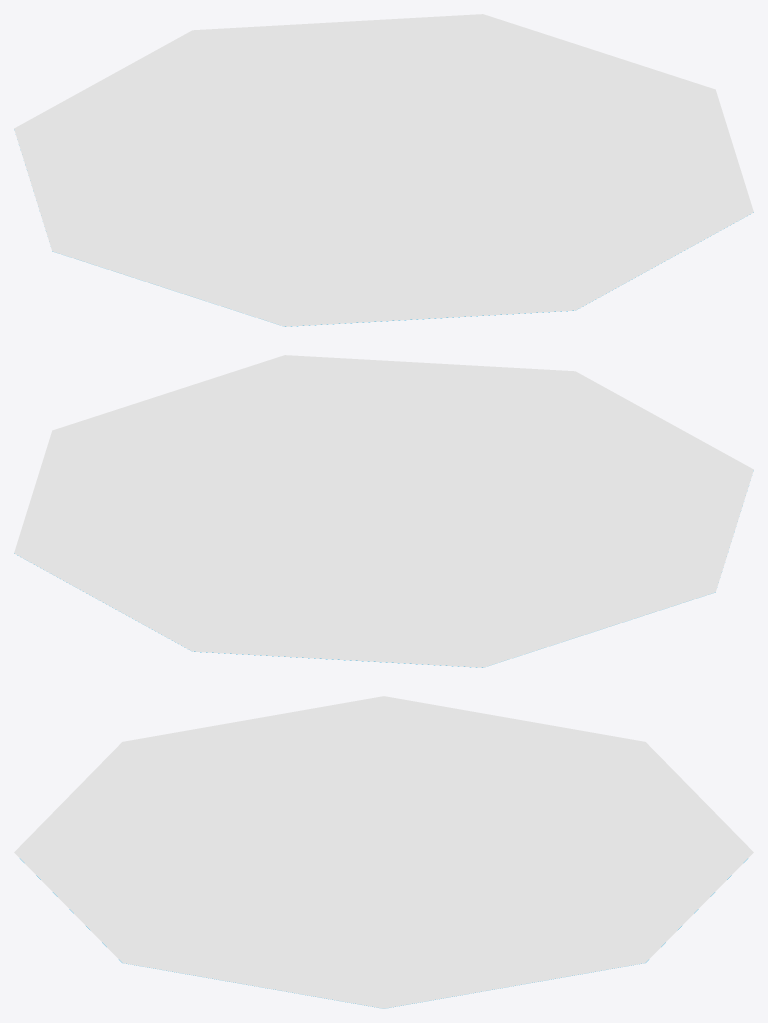
Rendered from nokonoko_course-beach_waterC.glb.
3 renders of one model, top to bottom at view 1: azimuth 30°, elevation 25°; view 2: azimuth 150°, elevation 25°; view 3: azimuth 270°, elevation 25°, orthographic. The views are drawn at different scales.
Parts seen in each view (by area): view 1: beach_waterC; view 2: beach_waterC; view 3: beach_waterC.
Boxes of the visible parts, x1,y1,x2,y2 form: beach_waterC: [14, 14, 753, 326]; beach_waterC: [14, 355, 753, 667]; beach_waterC: [14, 696, 753, 1008].
Bounding box in the file's own units: 862 × 0.125 × 862.
Materials: 2 (2 with a texture image).
